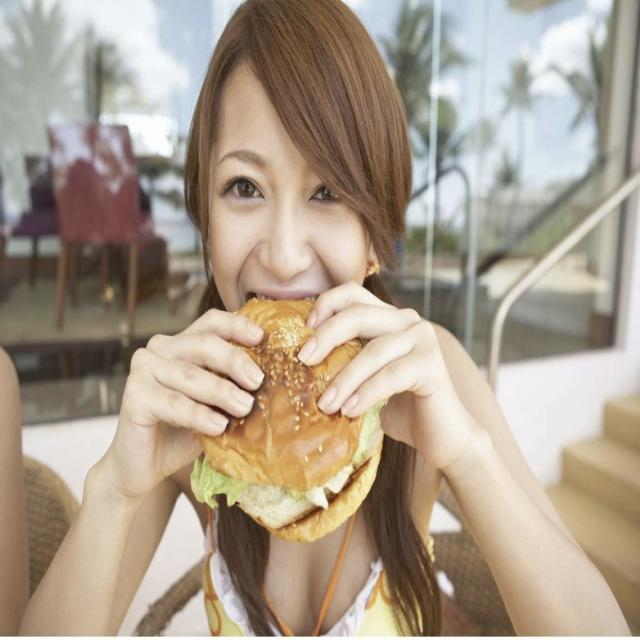eating-person: (13, 0, 638, 632)
